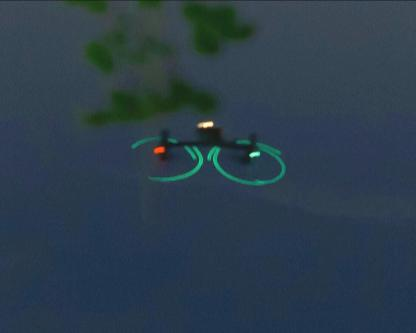Tornado: (130, 120, 286, 186)
